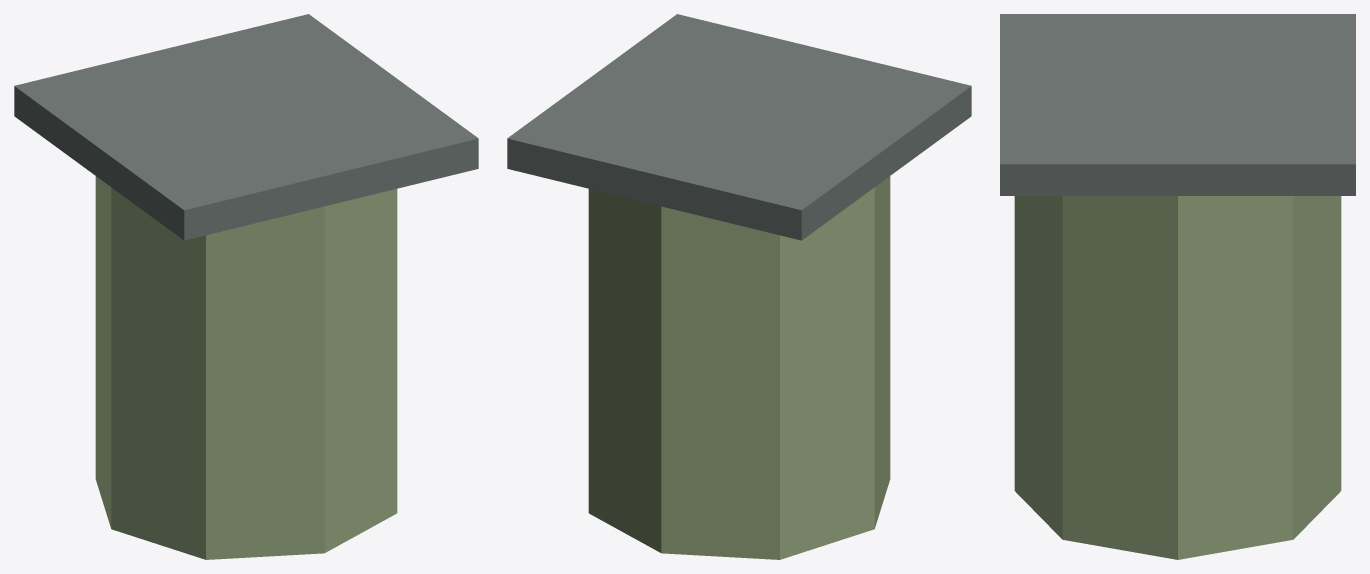
3 views of the same model, side by side, from view 1: azimuth 30°, elevation 25°; view 2: azimuth 150°, elevation 25°; view 3: azimuth 270°, elevation 25° (orthographic). The views are drawn at different scales.
Bounding box in the file's own units: 0.61 × 0.76 × 0.61.
